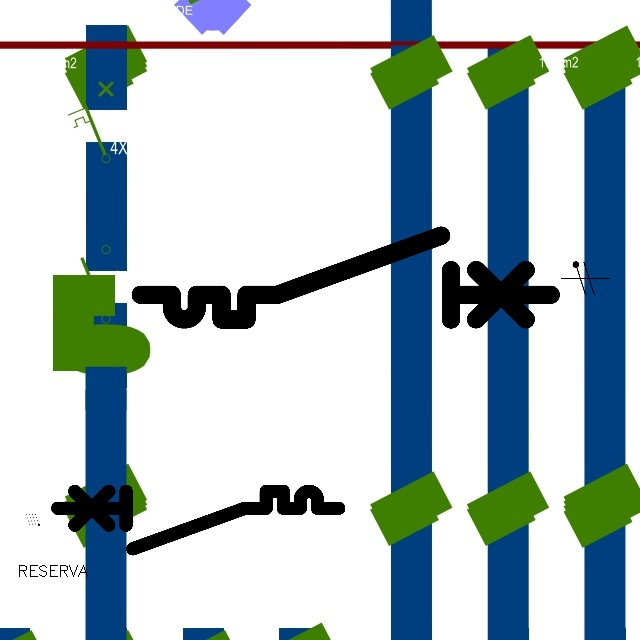interruptor_termomagnetico: (130, 225, 561, 330), (50, 484, 346, 556)
